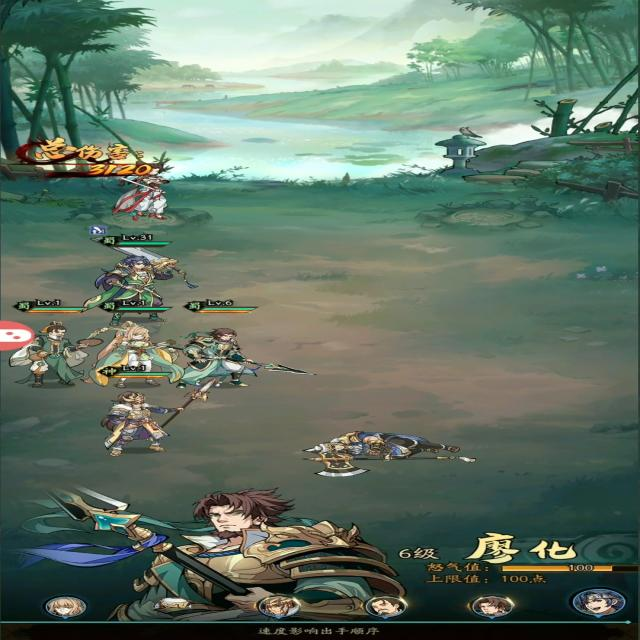hint-guide: (247, 619, 407, 640)
